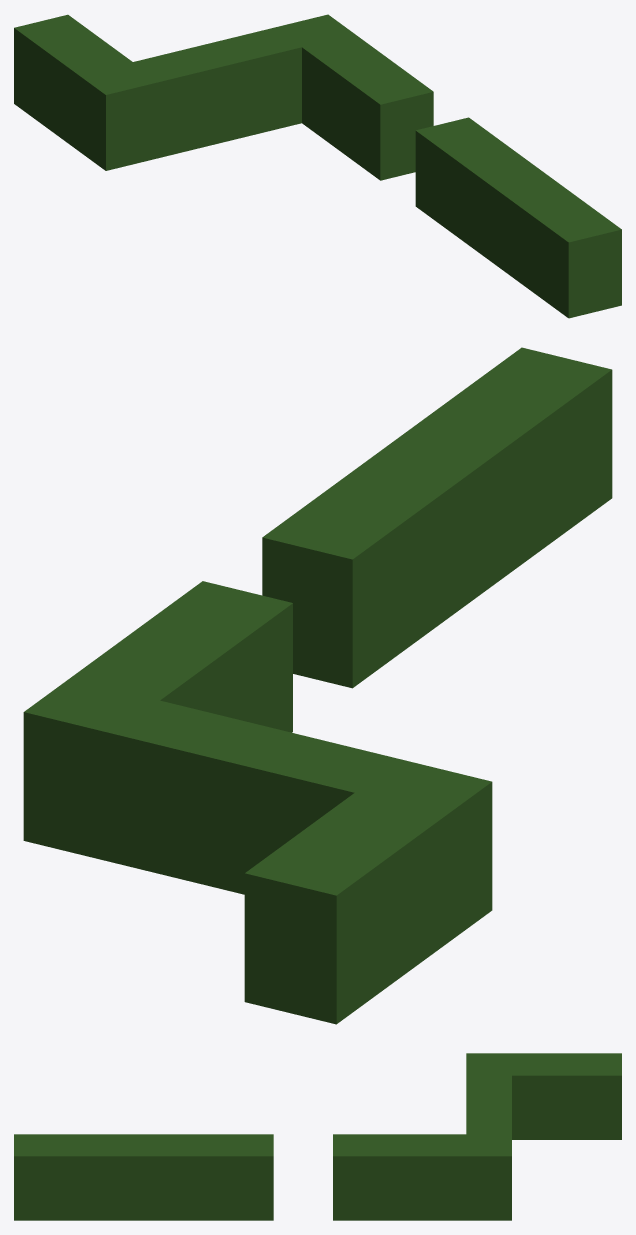
File: heg.fbx
The picture shows the model from 3 angles, top to bottom: view 1: azimuth 30°, elevation 25°; view 2: azimuth 150°, elevation 25°; view 3: azimuth 270°, elevation 25°; orthographic projection. The views are drawn at different scales.
Visible parts, largest first — view 1: Cube.015, Cube.016; view 2: Cube.015, Cube.016; view 3: Cube.015, Cube.016.
Boxes of the visible parts, x1,y1,x2,y2 form: Cube.015: [14, 14, 433, 180]; Cube.016: [415, 117, 621, 318]; Cube.015: [23, 581, 492, 1024]; Cube.016: [262, 347, 612, 688]; Cube.015: [333, 1053, 621, 1220]; Cube.016: [14, 1134, 273, 1220].
Bounding box in the file's own units: 2384 × 694 × 5940.
